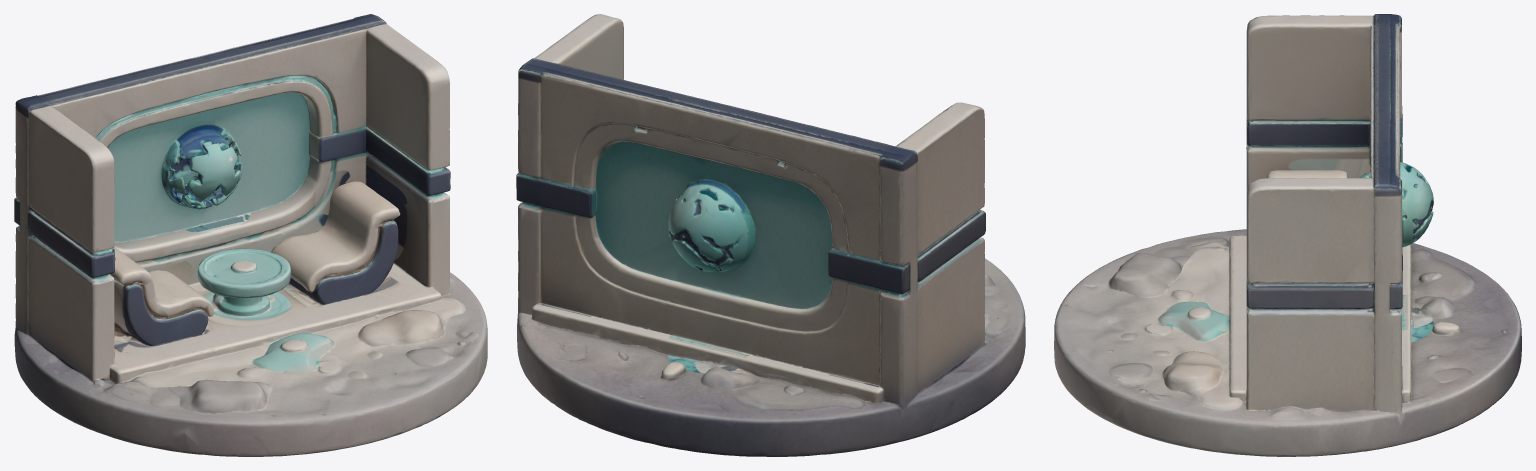
3 views of the same model, side by side, from view 1: azimuth 30°, elevation 25°; view 2: azimuth 150°, elevation 25°; view 3: azimuth 270°, elevation 25° (orthographic). The views are drawn at different scales.
Visible parts, largest first — view 1: texture_mapping; view 2: texture_mapping; view 3: texture_mapping.
Part boxes in pixels (x1,y1,x2,y2): texture_mapping: (14, 14, 487, 456); texture_mapping: (516, 14, 1025, 456); texture_mapping: (1054, 14, 1521, 456).
Bounding box in the file's own units: 0.9995 × 0.6193 × 0.9994.
Materials: 1 (1 with a texture image).
